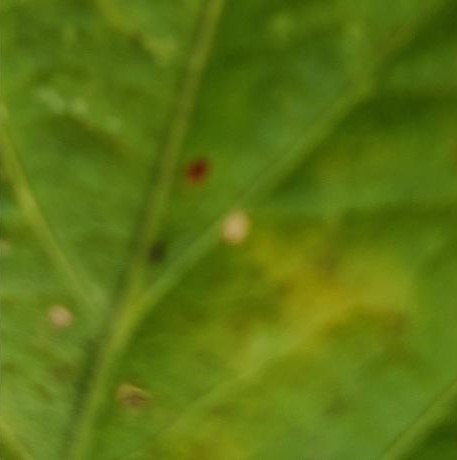doenca: (104, 351, 167, 420), (201, 185, 269, 248), (168, 143, 231, 185), (35, 290, 82, 338)
